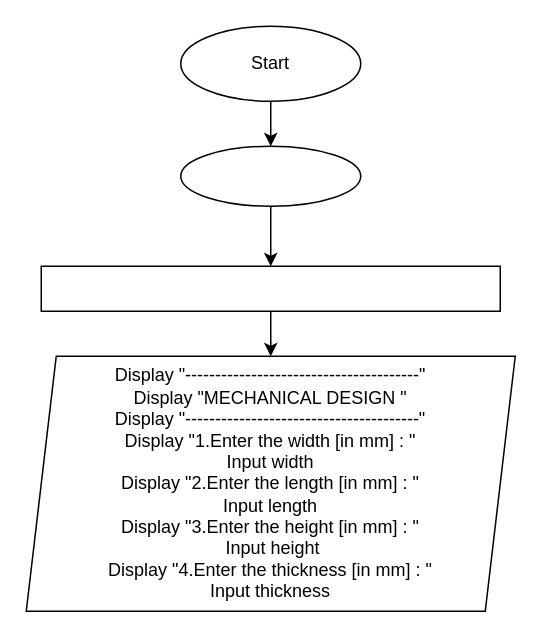
Image size: 542x638. Some labels were removed from this diagram. Here are the shapes that lost their labels. From the top down, the centre of each, then its label:
point 270,175: int main()
point 270,288: Set float width, height, length,thickness,diameter
